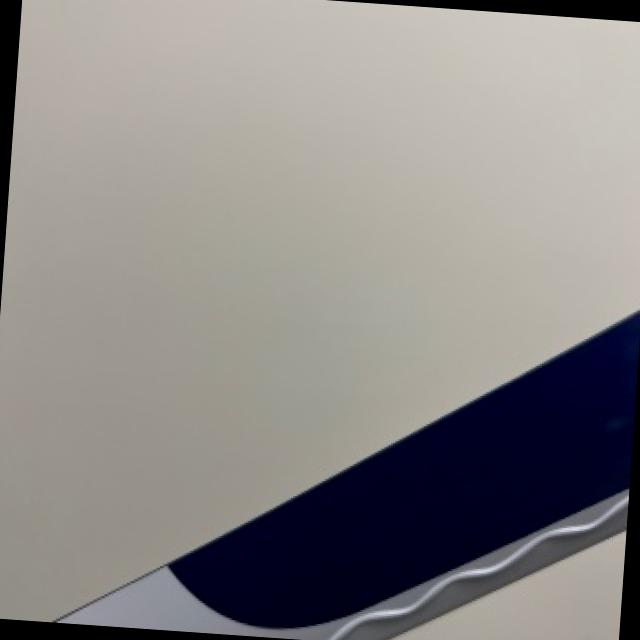healthy: (66, 308, 639, 640)
